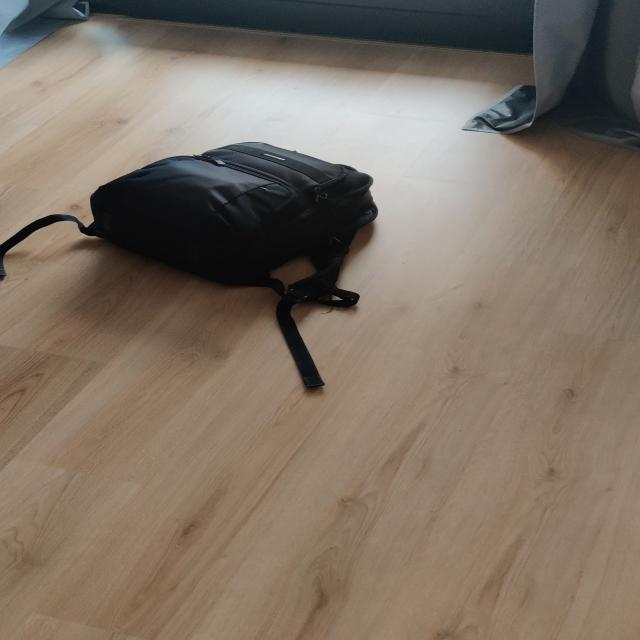backpack: (66, 138, 389, 292)
